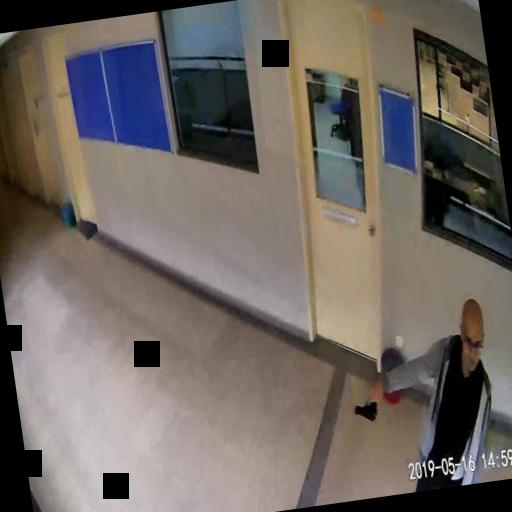Handgun: (351, 392, 381, 424)
